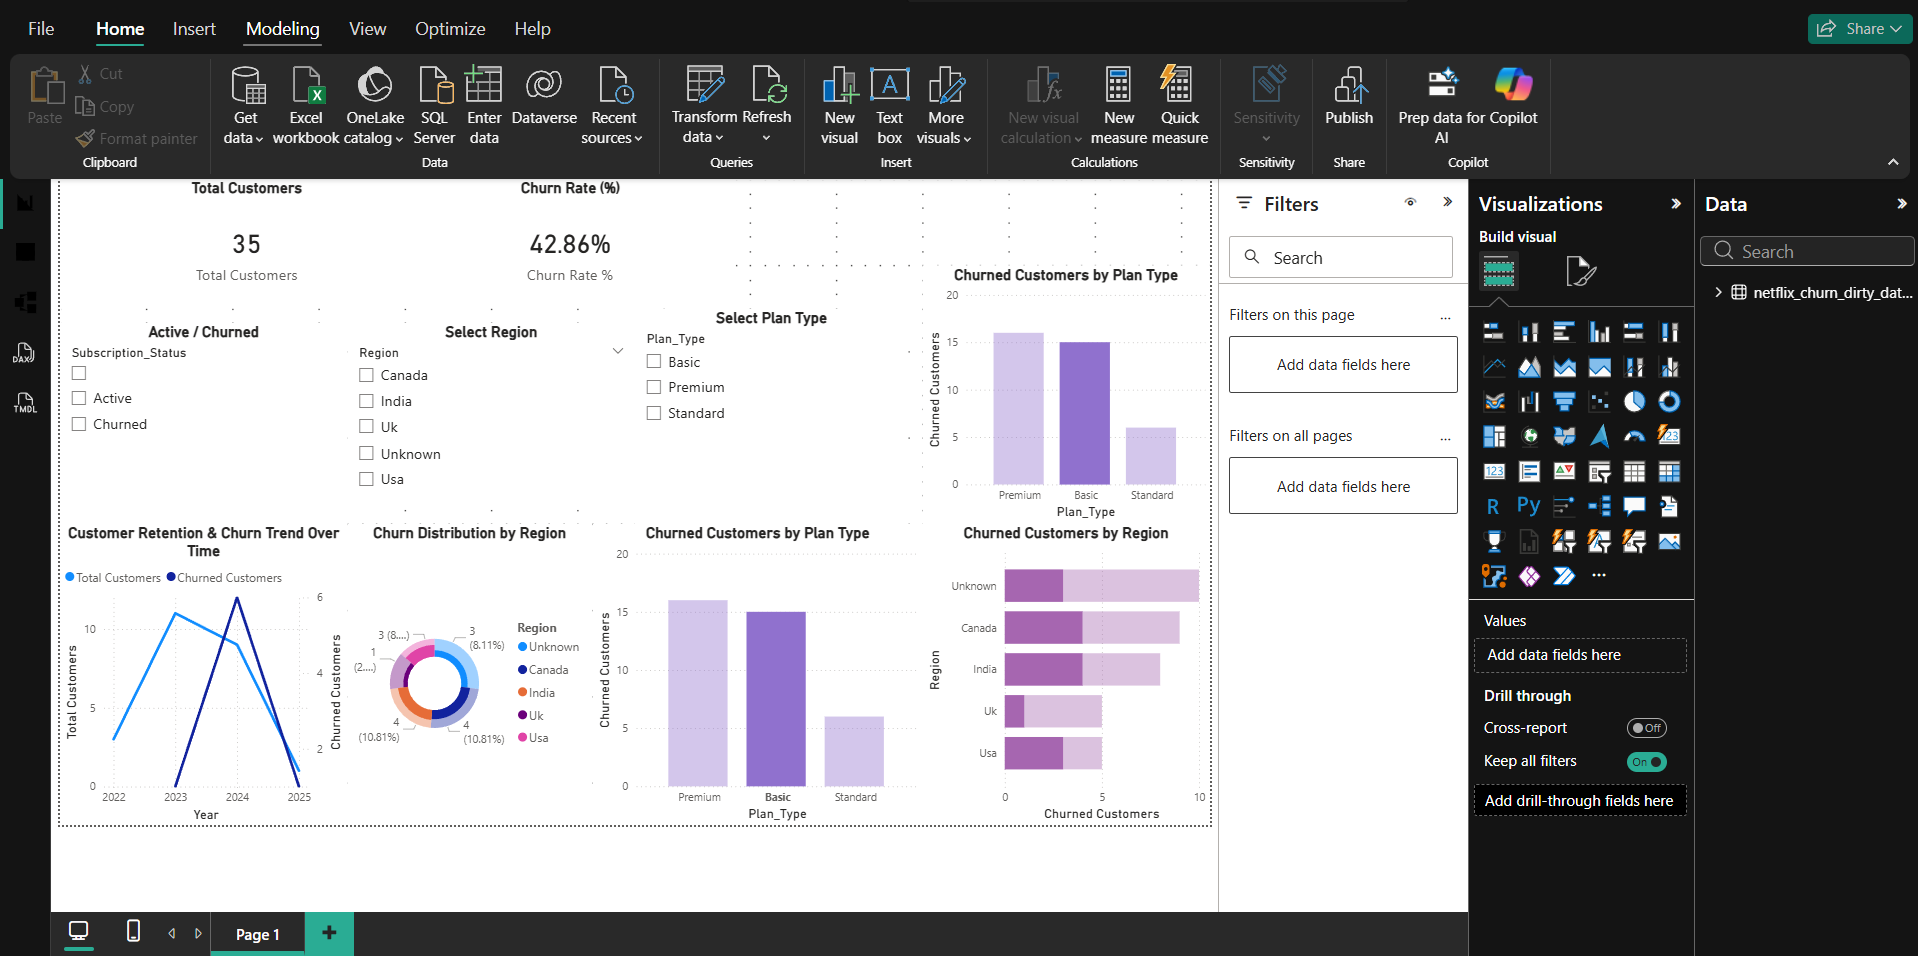

Layout of this report page (visuals, bound fields, positions):
{"tool":"powerbi","page":{"name":"Page 1","canvas":[1280,720],"ordinal":0},"visuals":[{"type":"card","title":"Total Customers","fields":{"Values":["netflix_churn_dirty_dataset.Total Customers"]},"box":[0,0,416,144],"z":0},{"type":"card","title":"Churn Rate (%)","fields":{"Values":["netflix_churn_dirty_dataset.Churn Rate %"]},"box":[384,0,368,144],"z":1000},{"type":"clusteredColumnChart","title":"Churned Customers by Plan Type","fields":{"Y":["netflix_churn_dirty_dataset.Churned Customers"],"Category":["netflix_churn_dirty_dataset.Plan_Type"]},"box":[592,384,368,336],"z":2000},{"type":"clusteredBarChart","title":"Churned Customers by Region","fields":{"Category":["netflix_churn_dirty_dataset.Region"],"Y":["netflix_churn_dirty_dataset.Churned Customers"]},"box":[960,384,320,336],"z":3000},{"type":"lineChart","title":"Customer Retention & Churn Trend Over Time","fields":{"Y":["netflix_churn_dirty_dataset.Total Customers"],"Category":["netflix_churn_dirty_dataset.Last_Active_Date.Variation.Date Hierarchy.Year","netflix_churn_dirty_dataset.Last_Active_Date.Variation.Date Hierarchy.Quarter","netflix_churn_dirty_dataset.Last_Active_Date.Variation.Date Hierarchy.Month","netflix_churn_dirty_dataset.Last_Active_Date.Variation.Date Hierarchy.Day"],"Y2":["netflix_churn_dirty_dataset.Churned Customers"]},"box":[0,384,320,336],"z":4000},{"type":"clusteredColumnChart","title":"Churned Customers by Plan Type","fields":{"Category":["netflix_churn_dirty_dataset.Plan_Type"],"Y":["netflix_churn_dirty_dataset.Churned Customers"]},"box":[960,96,320,288],"z":5000},{"type":"donutChart","title":"Churn Distribution by Region","fields":{"Y":["netflix_churn_dirty_dataset.Churned Customers"],"Category":["netflix_churn_dirty_dataset.Region"]},"box":[320,384,272,336],"z":6000},{"type":"slicer","title":"Select Region","fields":{"Values":["netflix_churn_dirty_dataset.Region"]},"box":[320,160,320,208],"z":7000},{"type":"slicer","title":"Select Plan Type","fields":{"Values":["netflix_churn_dirty_dataset.Plan_Type"]},"box":[640,144,304,240],"z":8000},{"type":"slicer","title":"Active / Churned","fields":{"Values":["netflix_churn_dirty_dataset.Subscription_Status"]},"box":[0,160,320,224],"z":9000}]}

Visuals, with their boxes in screenshot pixels (x1, y1, x2, y2):
"Total Customers" card: rect(255, 0, 779, 177)
"Churn Rate (%)" card: rect(739, 0, 1203, 177)
"Churned Customers by Plan Type" clusteredColumnChart: rect(1001, 479, 1465, 902)
"Churned Customers by Region" clusteredBarChart: rect(1465, 479, 1868, 902)
"Customer Retention & Churn Trend Over Time" lineChart: rect(255, 479, 658, 902)
"Churned Customers by Plan Type" clusteredColumnChart: rect(1465, 116, 1868, 479)
"Churn Distribution by Region" donutChart: rect(658, 479, 1001, 902)
"Select Region" slicer: rect(658, 197, 1061, 459)
"Select Plan Type" slicer: rect(1061, 177, 1445, 479)
"Active / Churned" slicer: rect(255, 197, 658, 479)
